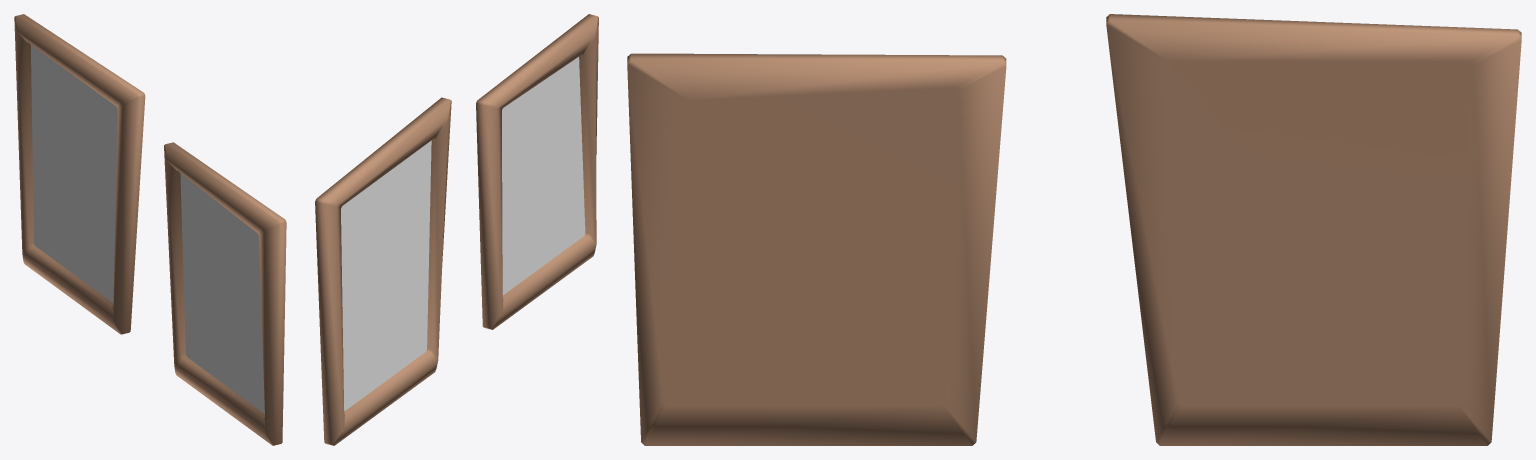
File: Paintings.fbx
3 renders of one model, left to right at view 1: azimuth 30°, elevation 25°; view 2: azimuth 150°, elevation 25°; view 3: azimuth 270°, elevation 25°, orthographic. The views are drawn at different scales.
Parts seen in each view (by area): view 1: foto, foto_2, QuadroA, QuadroB; view 2: foto, QuadroA, foto_2, QuadroB; view 3: QuadroA, QuadroB.
Part boxes in pixels (left/top/right/bottom): foto: left=31, top=45, right=117, bottom=302; foto_2: left=180, top=173, right=264, bottom=413; QuadroA: left=14, top=14, right=145, bottom=334; QuadroB: left=164, top=142, right=286, bottom=445; foto: left=341, top=140, right=431, bottom=411; QuadroA: left=315, top=97, right=451, bottom=445; foto_2: left=502, top=57, right=585, bottom=295; QuadroB: left=476, top=14, right=598, bottom=329; QuadroA: left=1106, top=14, right=1521, bottom=445; QuadroB: left=627, top=53, right=1006, bottom=445.
Bounding box in the file's own units: 5.96 × 88.87 × 170.
